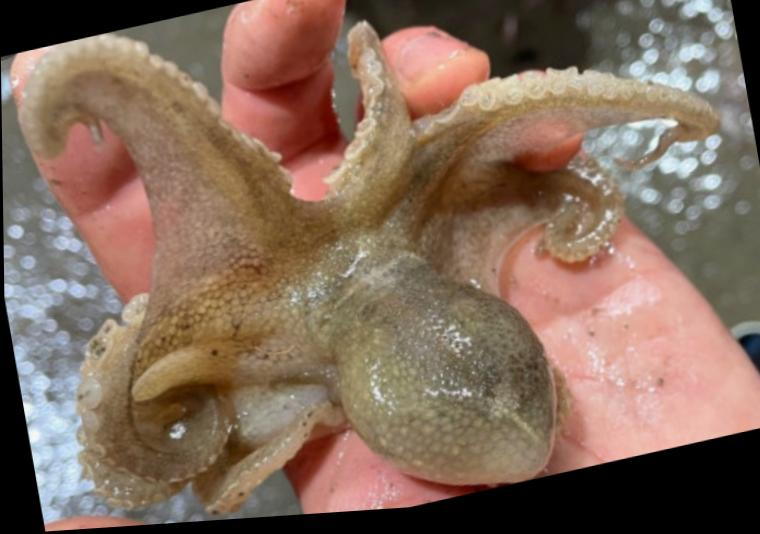Cephalopod: (17, 30, 719, 518)
